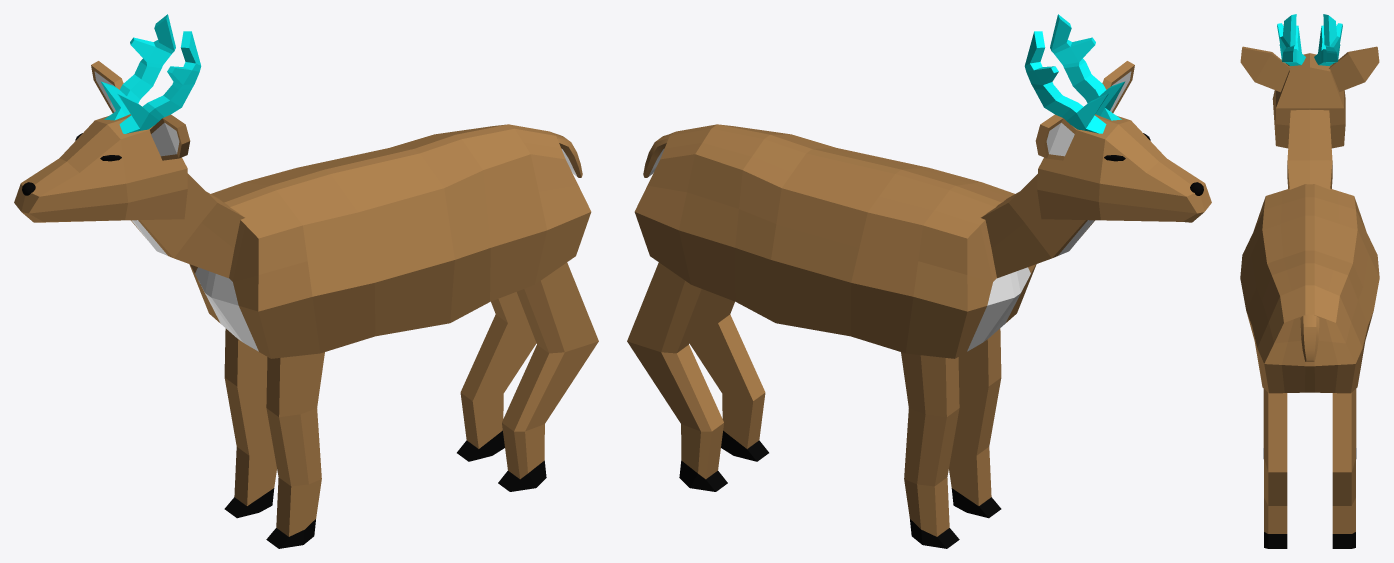
File: Deer_Test.glb
The picture shows the model from 3 angles, left to right: view 1: azimuth 30°, elevation 25°; view 2: azimuth 150°, elevation 25°; view 3: azimuth 270°, elevation 25°; orthographic projection. The views are drawn at different scales.
Visible parts, largest first — view 1: Torso, Head, BackLeg_L, FrontLeg_L, FrontLeg_R, BackLeg_R, Horns, Neck, Ears; view 2: Torso, Head, BackLeg_R, FrontLeg_R, FrontLeg_L, BackLeg_L, Horns, Neck, Ears; view 3: Torso, Head, BackLeg_L, BackLeg_R, Neck, Ears, Horns, Cube.
Boxes of the visible parts, box(x1,y1,x2,y2) form: Torso: box(189, 124, 591, 358); Head: box(14, 114, 187, 222); BackLeg_L: box(498, 262, 598, 491); FrontLeg_L: box(266, 352, 324, 548); FrontLeg_R: box(224, 328, 276, 518); BackLeg_R: box(457, 292, 536, 461); Horns: box(100, 14, 201, 133); Neck: box(131, 173, 244, 278); Ears: box(91, 61, 190, 160); Torso: box(634, 124, 1036, 358); Head: box(1037, 114, 1211, 222); BackLeg_R: box(627, 262, 727, 491); FrontLeg_R: box(901, 352, 959, 548); FrontLeg_L: box(949, 328, 1001, 518); BackLeg_L: box(689, 292, 768, 461); Horns: box(1024, 14, 1125, 133); Neck: box(981, 174, 1094, 278); Ears: box(1035, 61, 1134, 160); Torso: box(1240, 184, 1379, 393); Head: box(1272, 53, 1345, 148); BackLeg_L: box(1264, 389, 1287, 548); BackLeg_R: box(1332, 389, 1355, 548); Neck: box(1287, 110, 1332, 189); Ears: box(1240, 46, 1379, 92); Horns: box(1277, 14, 1342, 65); Cube: box(1300, 314, 1319, 361).
Bounding box in the file's own units: 3.52 × 3.15 × 0.9742.
